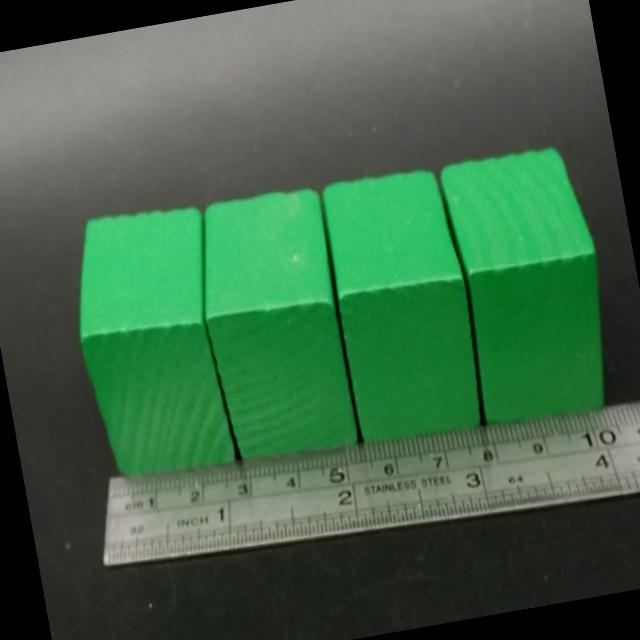green cube: (441, 145, 607, 422), (322, 169, 482, 440), (79, 206, 238, 476), (204, 187, 361, 458)
